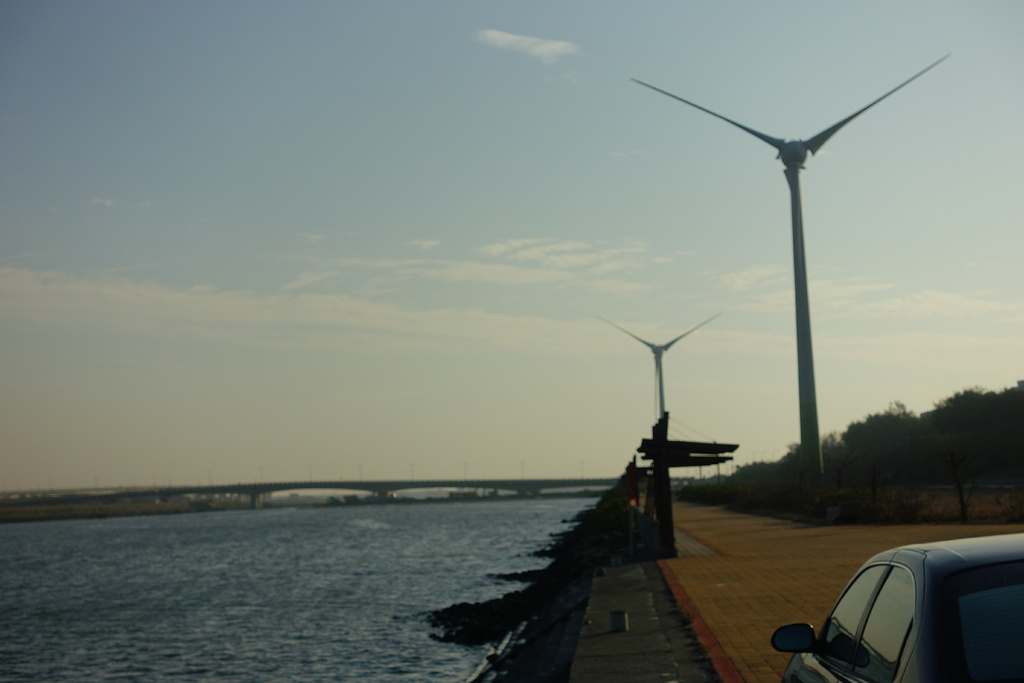Car: (787, 527, 992, 682)
